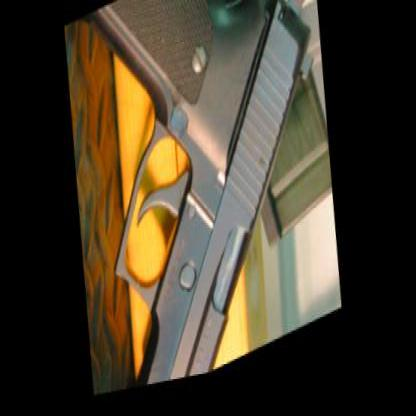pistol: (70, 0, 344, 399)
